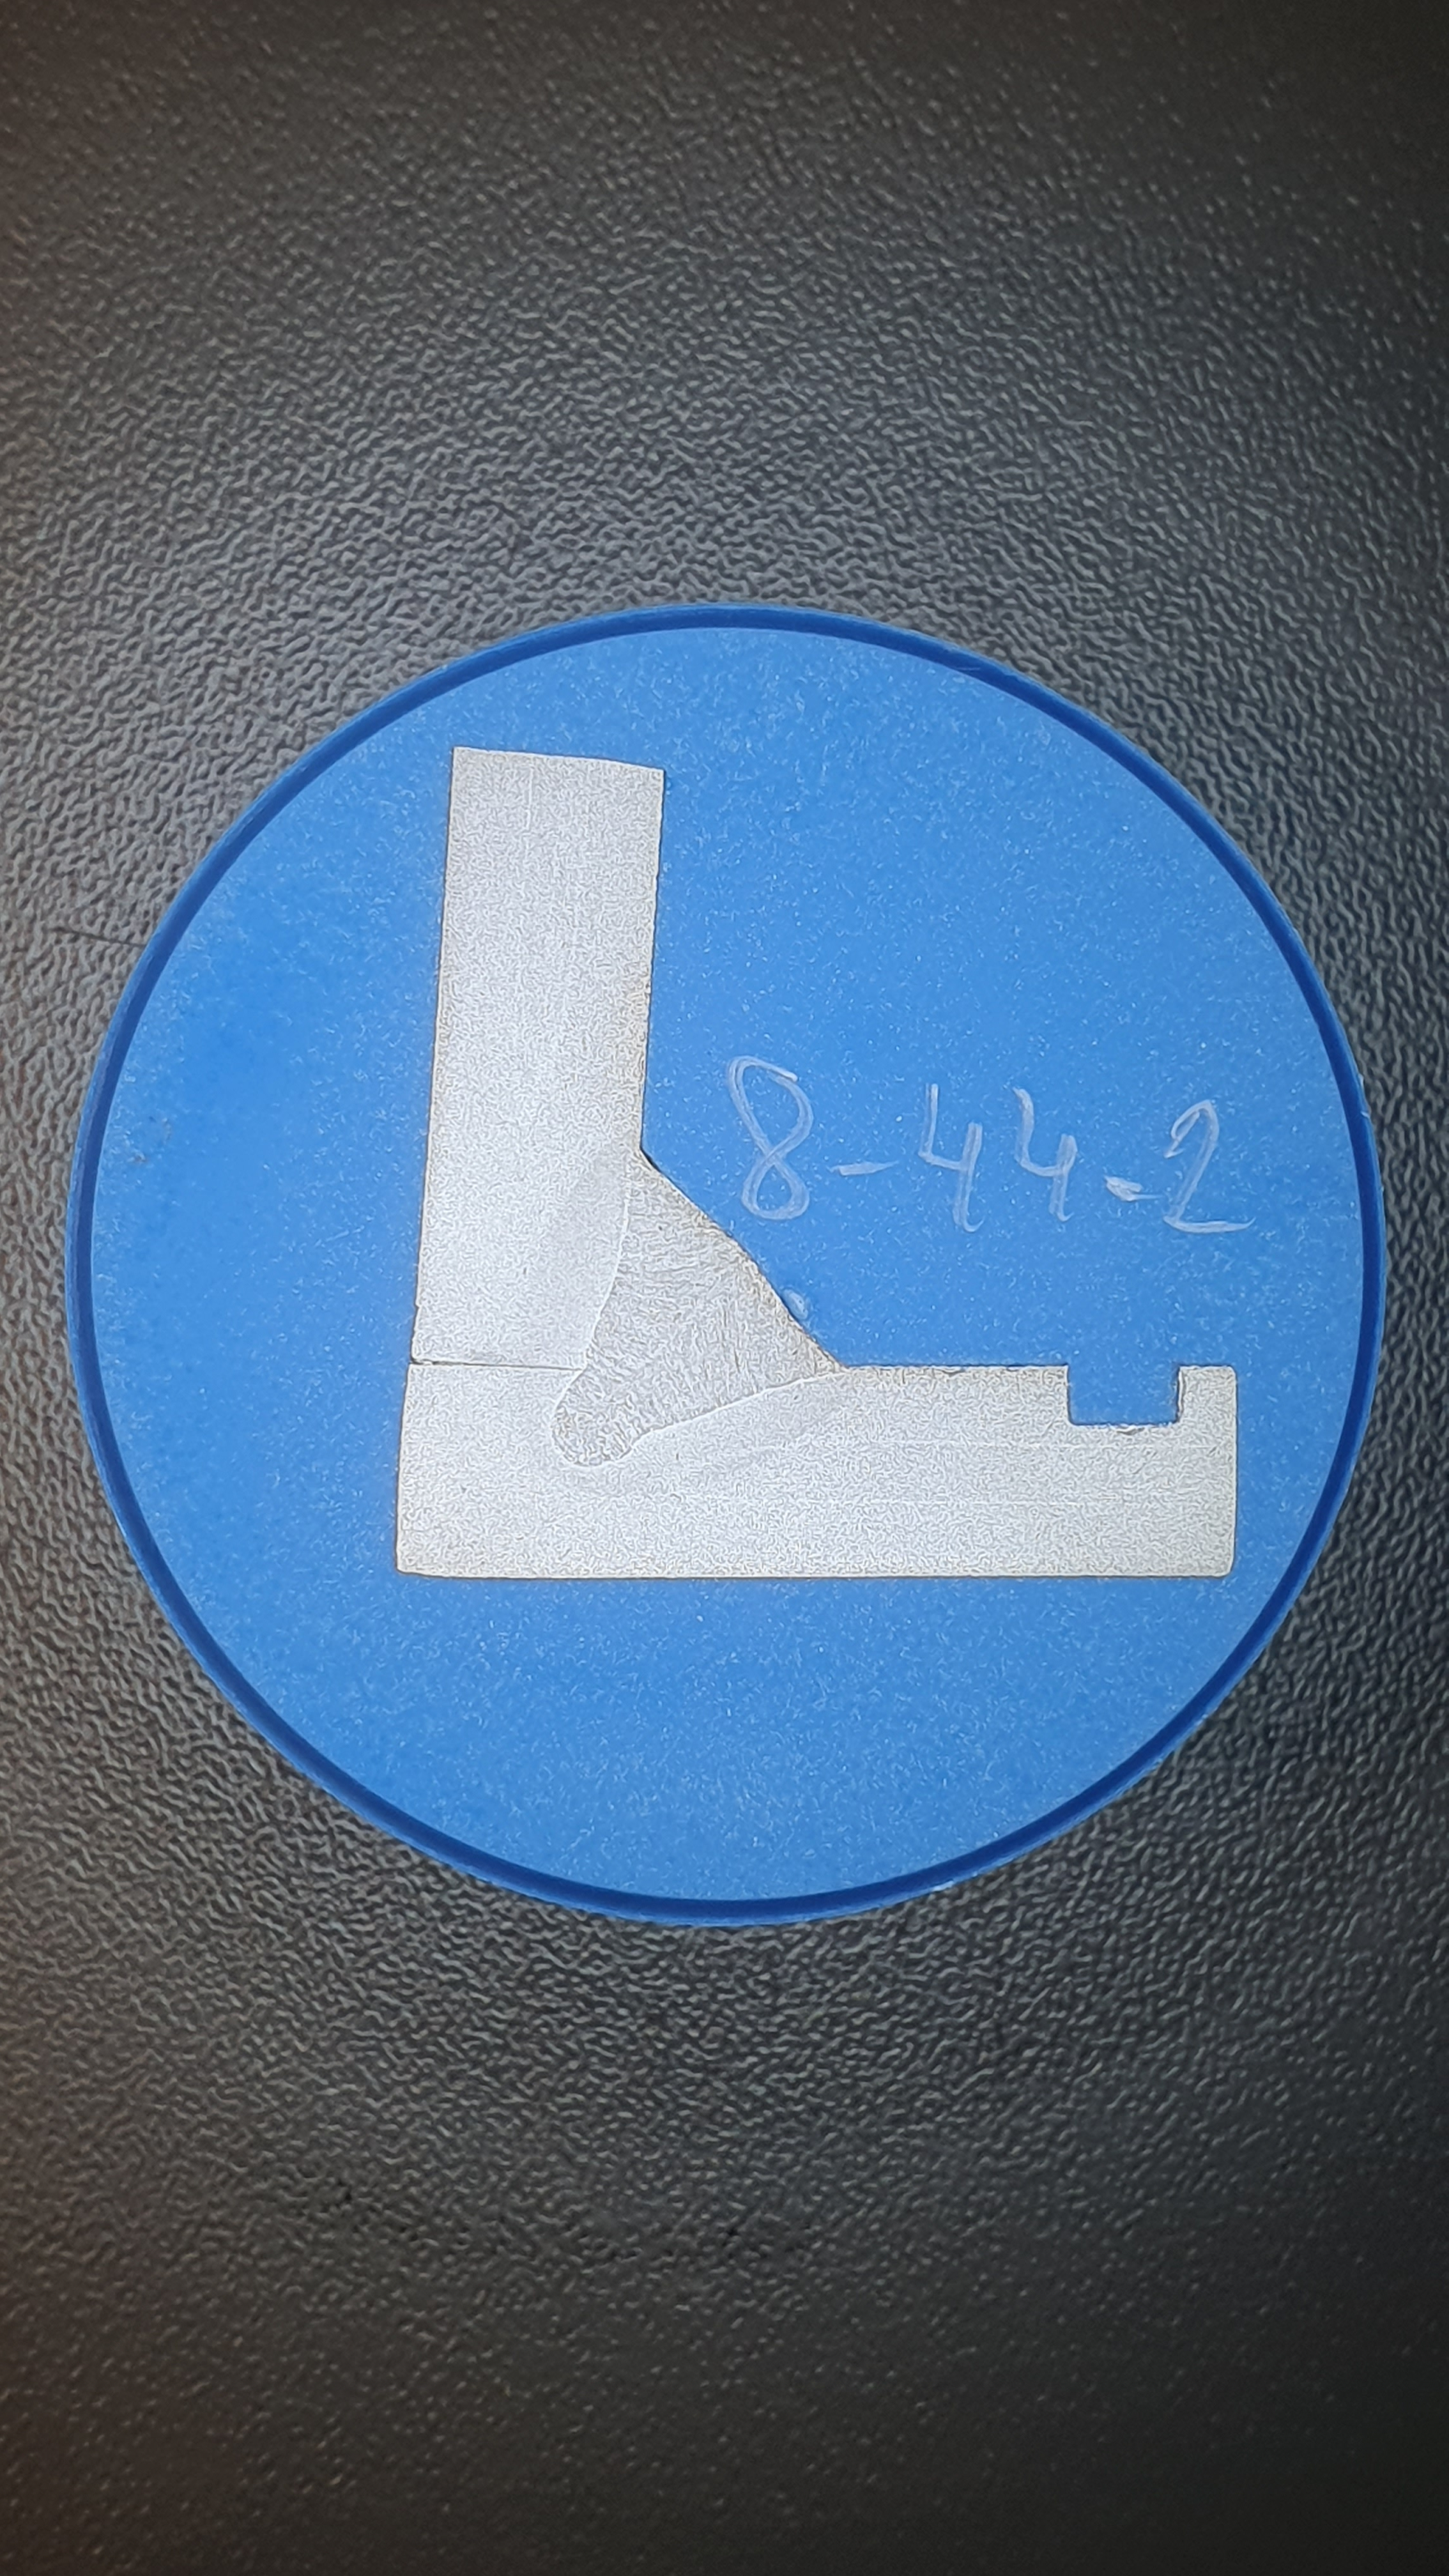Fusion: (550, 1148, 846, 1468)
Hintergrund: (90, 626, 1364, 1900)
Metall: (396, 745, 1237, 1578)
Nebenbereich: (511, 1125, 870, 1500)
